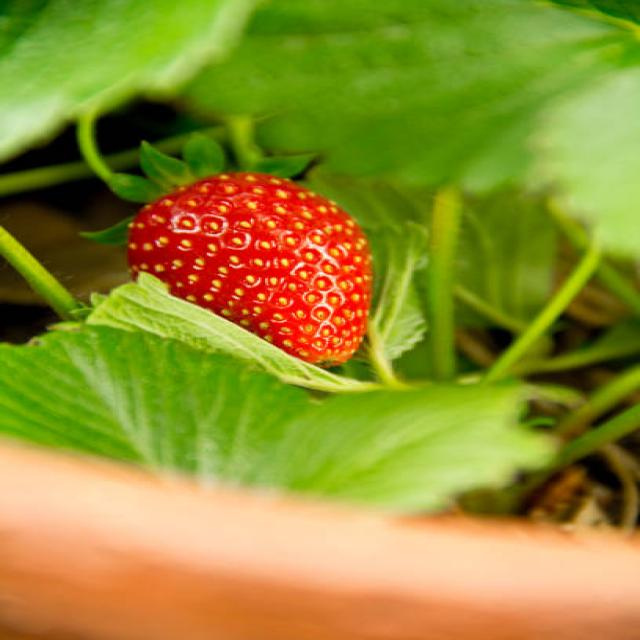Healthy Fruit: (126, 172, 374, 368)
